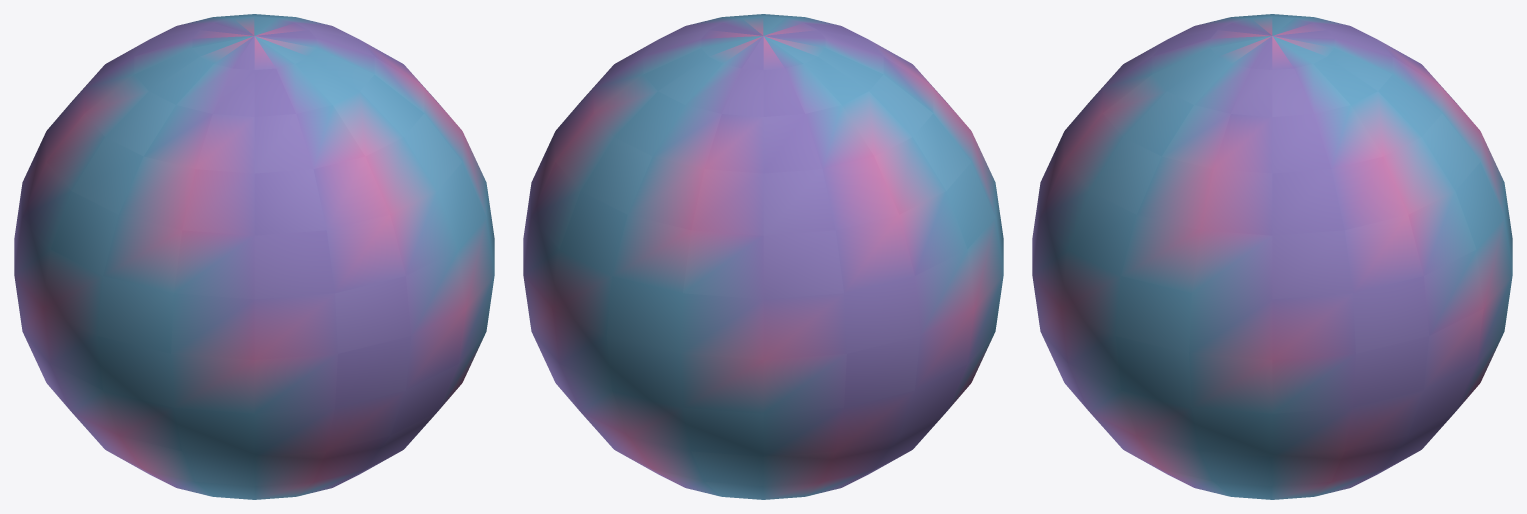
Rendered from Nebula_Fruit.glb.
3 renders of one model, left to right at view 1: azimuth 30°, elevation 25°; view 2: azimuth 150°, elevation 25°; view 3: azimuth 270°, elevation 25°, orthographic.
Parts seen in each view (by area): view 1: NebulaFruit; view 2: NebulaFruit; view 3: NebulaFruit.
Boxes of the visible parts, left/top/right/bottom form: NebulaFruit: left=14, top=14, right=494, bottom=499; NebulaFruit: left=523, top=14, right=1003, bottom=499; NebulaFruit: left=1032, top=14, right=1512, bottom=499.
Size of the model in its own units: 0.72 by 0.72 by 0.7091.
